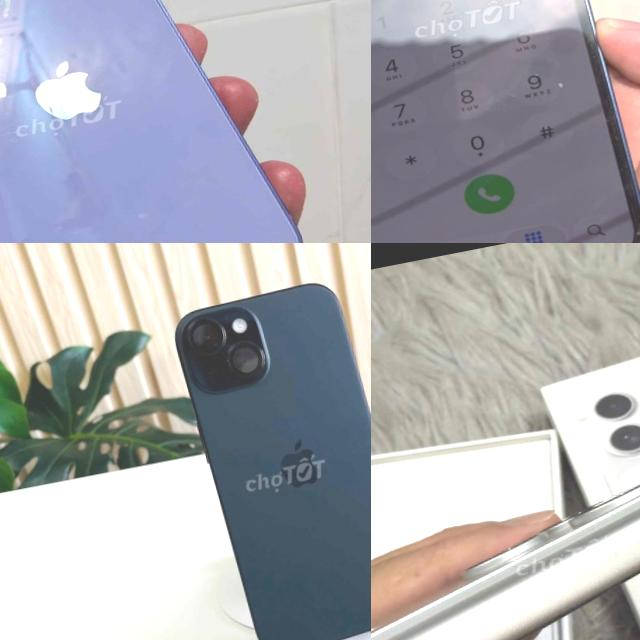gen_12_13: (0, 0, 333, 243), (371, 0, 640, 243)
gen_15: (154, 269, 371, 640)
gen_17: (371, 484, 640, 640)
